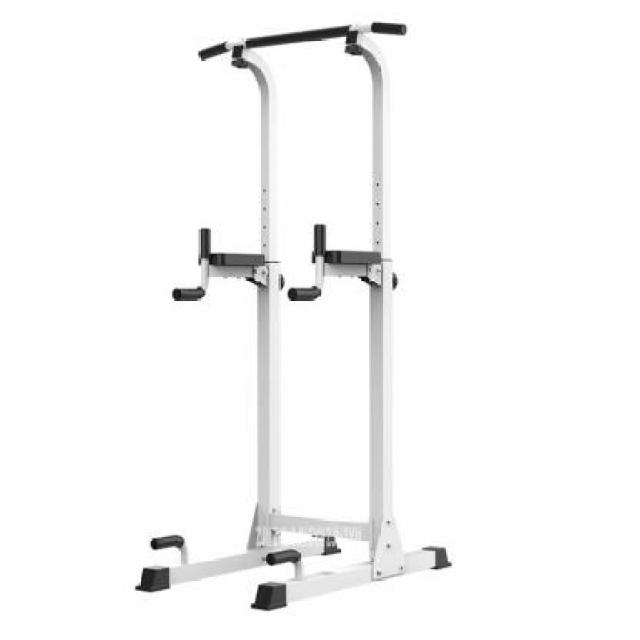chinning dipping: (134, 20, 451, 612)
